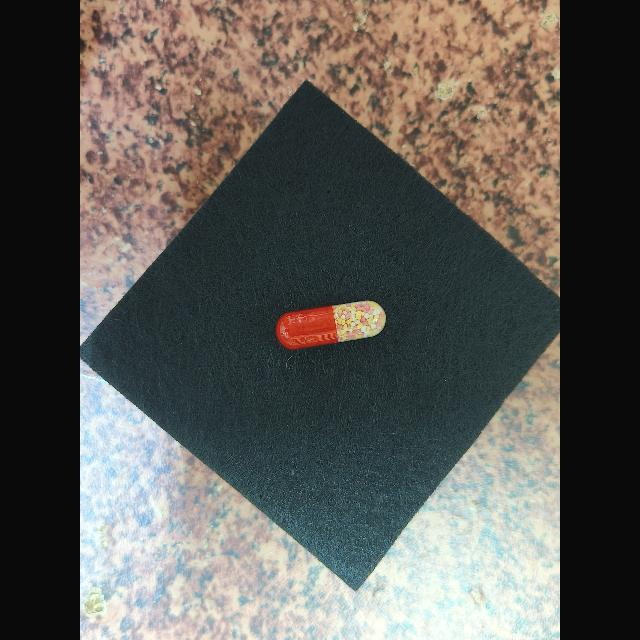Intact Capsule: (275, 301, 386, 350)
